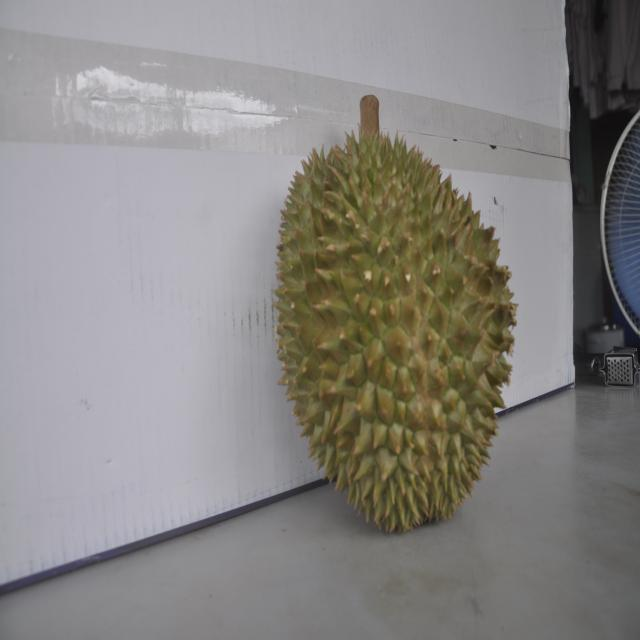mature: (273, 112, 511, 531)
